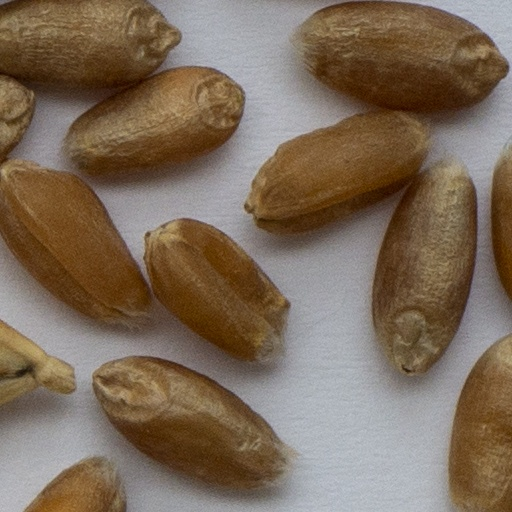Peel-poly: (0, 319, 74, 405)
